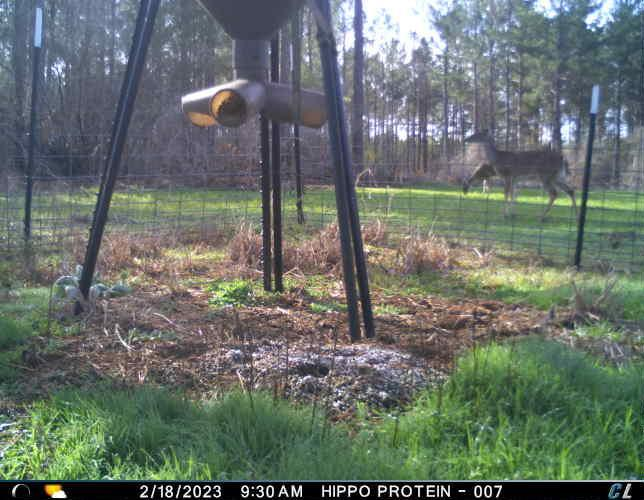Deer: (464, 124, 581, 224), (461, 159, 498, 196)
